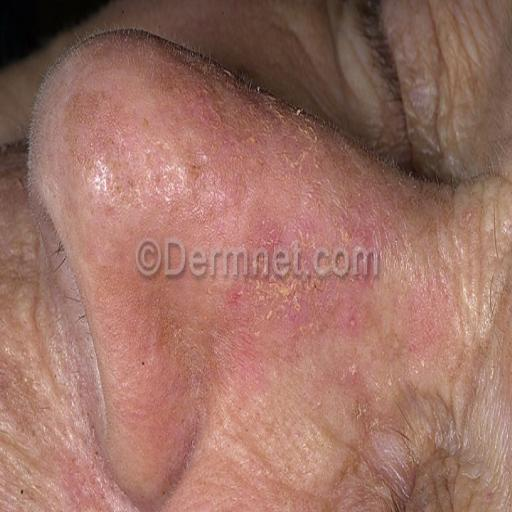Skin_Lesion: (254, 254, 328, 332), (184, 160, 217, 192), (227, 276, 248, 318)
